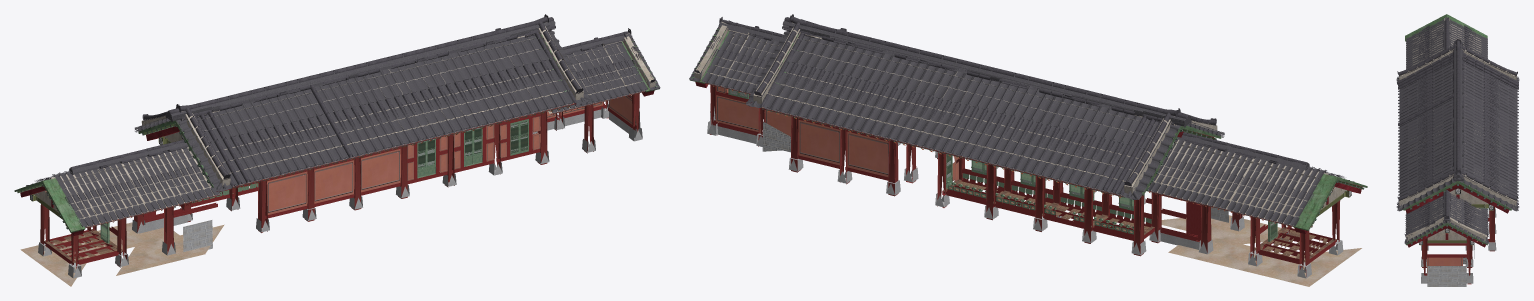
Rendered from deukjung.glb.
The picture shows the model from 3 angles, left to right: view 1: azimuth 30°, elevation 25°; view 2: azimuth 150°, elevation 25°; view 3: azimuth 270°, elevation 25°; orthographic projection. The views are drawn at different scales.
Parts seen in each view (by area): view 1: SM_Deugjungjeong, SM_Deugjungjeong_MI_R_Roof.004_0.005, SM_Deugjungjeong_MI_R_Roof.004_0.004, SM_Deugjungjeong_MI_R_Roof.004_0.007, SM_Deugjungjeong_MI_R_Roof.004_0.003, SM_Deugjungjeong_MI_R_Roof.004_0.006, SM_Deugjungjeong_MI_R_Roof.004_0.002, SM_Deugjungjeong_MI_R_Roof.004_0.001, SM_Deugjungjeong_MI_KoreanWood_5.002_0.001; view 2: SM_Deugjungjeong, SM_Deugjungjeong_MI_R_Roof.004_0.004, SM_Deugjungjeong_MI_R_Roof.004_0.005, SM_Deugjungjeong_MI_R_Roof.004_0.003, SM_Deugjungjeong_MI_R_Roof.004_0.007, SM_Deugjungjeong_MI_R_Roof.004_0.002, SM_Deugjungjeong_MI_R_Roof.004_0.006, SM_Deugjungjeong_MI_R_Roof.004_0.001; view 3: SM_Deugjungjeong, SM_Deugjungjeong_MI_R_Roof.004_0.005, SM_Deugjungjeong_MI_R_Roof.004_0.004, SM_Deugjungjeong_MI_R_Roof.004_0.007, SM_Deugjungjeong_MI_R_Roof.004_0.003, SM_Deugjungjeong_MI_R_Roof.004_0.006, SM_Deugjungjeong_MI_R_Roof.004_0.001, SM_Deugjungjeong_MI_R_Roof.004_0.002.
Part boxes in pixels (x1,y1,x2,y2): SM_Deugjungjeong: (14, 22, 659, 286); SM_Deugjungjeong_MI_R_Roof.004_0.005: (275, 34, 567, 166); SM_Deugjungjeong_MI_R_Roof.004_0.004: (365, 17, 573, 145); SM_Deugjungjeong_MI_R_Roof.004_0.007: (59, 31, 629, 223); SM_Deugjungjeong_MI_R_Roof.004_0.003: (69, 50, 420, 219); SM_Deugjungjeong_MI_R_Roof.004_0.006: (276, 34, 647, 160); SM_Deugjungjeong_MI_R_Roof.004_0.002: (119, 101, 250, 211); SM_Deugjungjeong_MI_R_Roof.004_0.001: (167, 14, 660, 200); SM_Deugjungjeong_MI_KoreanWood_5.002_0.001: (417, 119, 528, 178); SM_Deugjungjeong: (689, 22, 1367, 286); SM_Deugjungjeong_MI_R_Roof.004_0.004: (763, 17, 982, 151); SM_Deugjungjeong_MI_R_Roof.004_0.005: (773, 34, 1075, 173); SM_Deugjungjeong_MI_R_Roof.004_0.003: (926, 52, 1309, 217); SM_Deugjungjeong_MI_R_Roof.004_0.007: (721, 20, 1319, 221); SM_Deugjungjeong_MI_R_Roof.004_0.002: (1102, 105, 1256, 209); SM_Deugjungjeong_MI_R_Roof.004_0.006: (702, 22, 1075, 100); SM_Deugjungjeong_MI_R_Roof.004_0.001: (689, 14, 1206, 192); SM_Deugjungjeong: (1396, 14, 1519, 286); SM_Deugjungjeong_MI_R_Roof.004_0.005: (1398, 76, 1518, 201); SM_Deugjungjeong_MI_R_Roof.004_0.004: (1398, 113, 1518, 204); SM_Deugjungjeong_MI_R_Roof.004_0.007: (1398, 26, 1518, 221); SM_Deugjungjeong_MI_R_Roof.004_0.003: (1398, 19, 1518, 149); SM_Deugjungjeong_MI_R_Roof.004_0.006: (1398, 76, 1488, 238); SM_Deugjungjeong_MI_R_Roof.004_0.001: (1396, 165, 1519, 243); SM_Deugjungjeong_MI_R_Roof.004_0.002: (1398, 36, 1518, 89).
Bounding box in the file's own units: 36.16 × 7.43 × 9.01.
21 materials, 20 textured.
